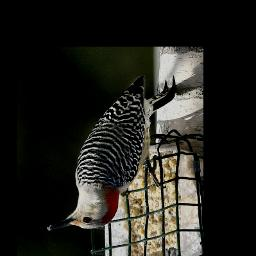Woodpecker: (46, 75, 176, 231)
